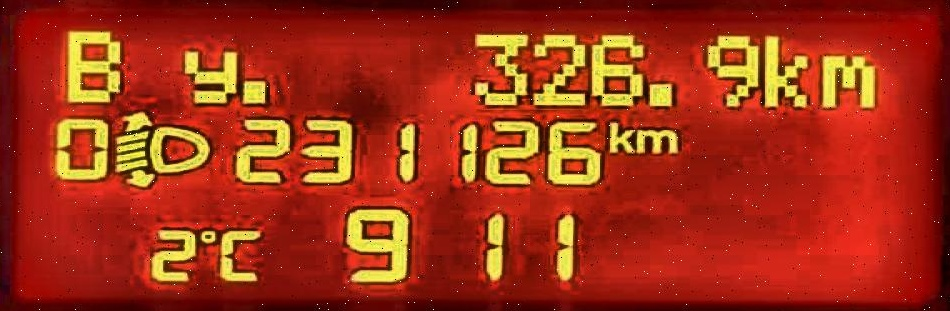-: (236, 76, 268, 105), (643, 81, 676, 108)
0: (48, 115, 111, 181)
1: (480, 209, 506, 282), (550, 211, 576, 282), (393, 120, 418, 184), (456, 120, 480, 184)
2: (529, 31, 588, 108), (231, 115, 293, 184), (481, 117, 540, 183), (146, 226, 196, 285)
3: (468, 30, 529, 107), (298, 116, 354, 185)
6: (588, 31, 644, 110)
9: (340, 206, 411, 283), (703, 34, 761, 110)
X: (61, 26, 125, 105), (760, 34, 810, 110), (816, 51, 880, 110), (178, 46, 238, 105), (216, 227, 265, 281), (633, 126, 678, 155), (605, 120, 635, 154)
